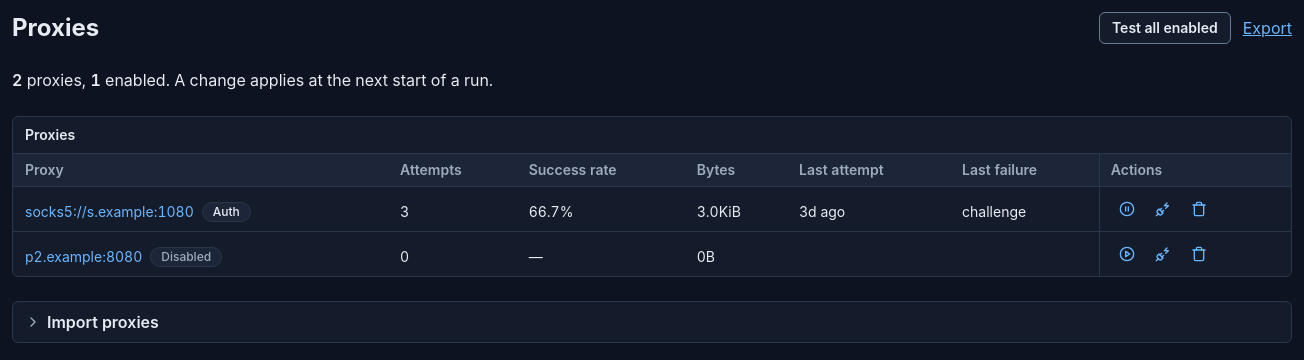
Test case: page › keeps the confirm of each row apart
Click the button named "Delete p2.example:8080". click: [1199, 254]
box: [1183,238,1215,270]
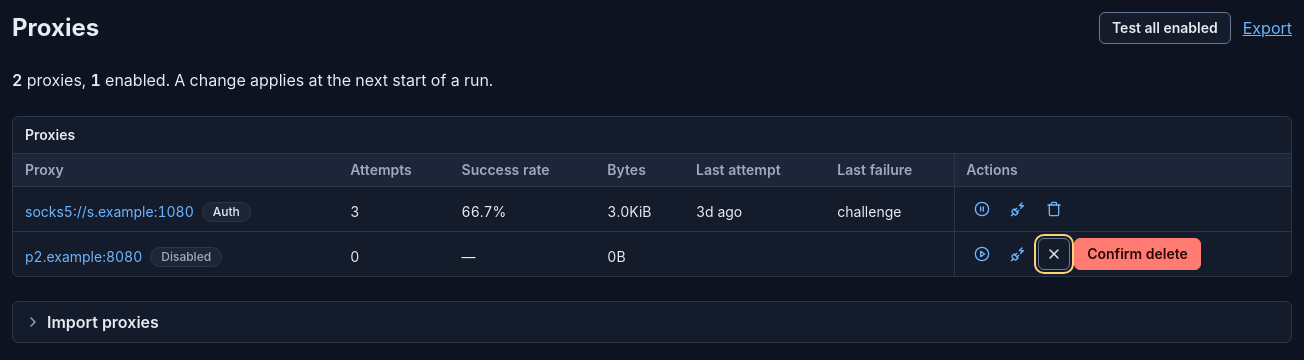
Click the button named "Delete socks5://s.example:1080". click: [1054, 209]
box: [1038,193,1070,225]
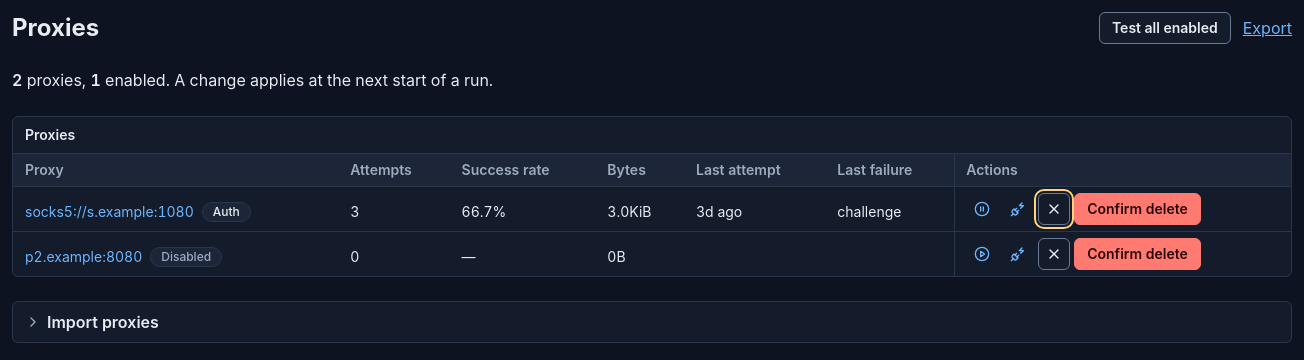
Now the button with aria-label "Confirm delete p2.example:8080" is shown, box [1074,238,1201,270]
Now the button with aria-label "Confirm delete socks5://s.example:1080" is shown, box [1074,193,1201,225]
